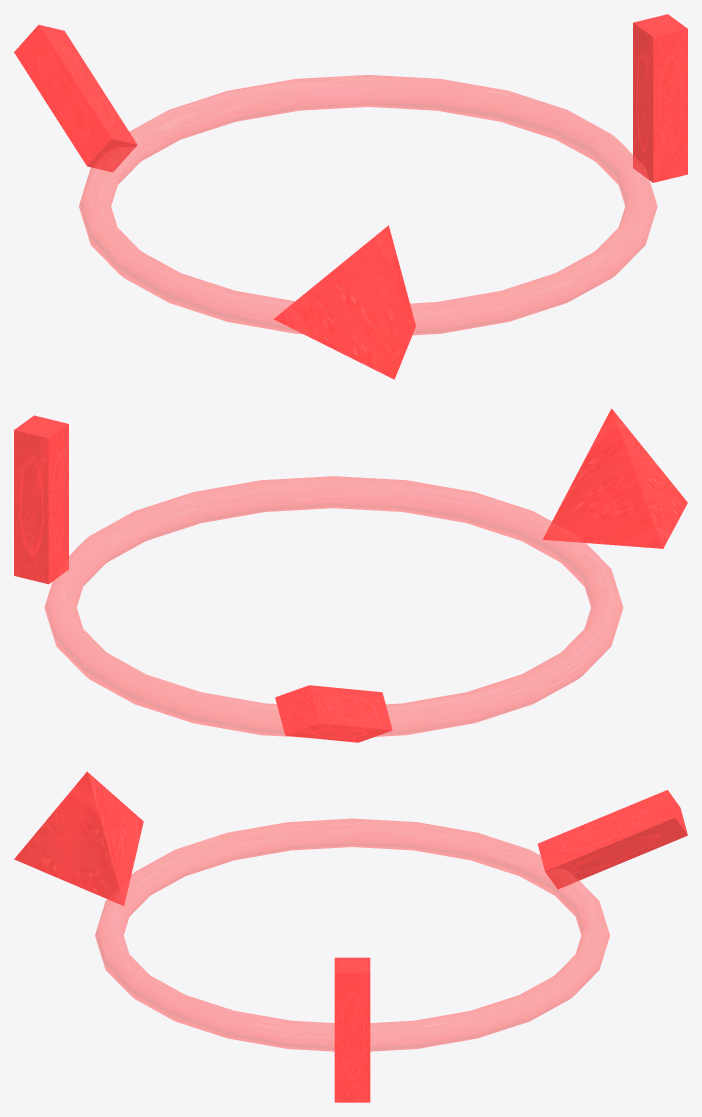
Rendered from story-marker-red.high.glb.
3 views of the same model, one above another, from view 1: azimuth 30°, elevation 25°; view 2: azimuth 150°, elevation 25°; view 3: azimuth 270°, elevation 25° (orthographic). The views are drawn at different scales.
Visible parts, largest first — view 1: story-marker-red-transparent|#ff6666|#ff6666|0.38|1|0.04|0.7, story-marker-red-body; view 2: story-marker-red-transparent|#ff6666|#ff6666|0.38|1|0.04|0.7, story-marker-red-body; view 3: story-marker-red-transparent|#ff6666|#ff6666|0.38|1|0.04|0.7, story-marker-red-body.
Boxes of the visible parts, bbox=[...] form: story-marker-red-transparent|#ff6666|#ff6666|0.38|1|0.04|0.7: bbox=[79, 75, 657, 335]; story-marker-red-body: bbox=[14, 14, 687, 379]; story-marker-red-transparent|#ff6666|#ff6666|0.38|1|0.04|0.7: bbox=[44, 476, 623, 737]; story-marker-red-body: bbox=[14, 408, 687, 742]; story-marker-red-transparent|#ff6666|#ff6666|0.38|1|0.04|0.7: bbox=[95, 818, 609, 1051]; story-marker-red-body: bbox=[14, 771, 687, 1102].
Size of the model in its own units: 0.805 by 0.217 by 0.942.
Materials: 2 (2 with a texture image).
